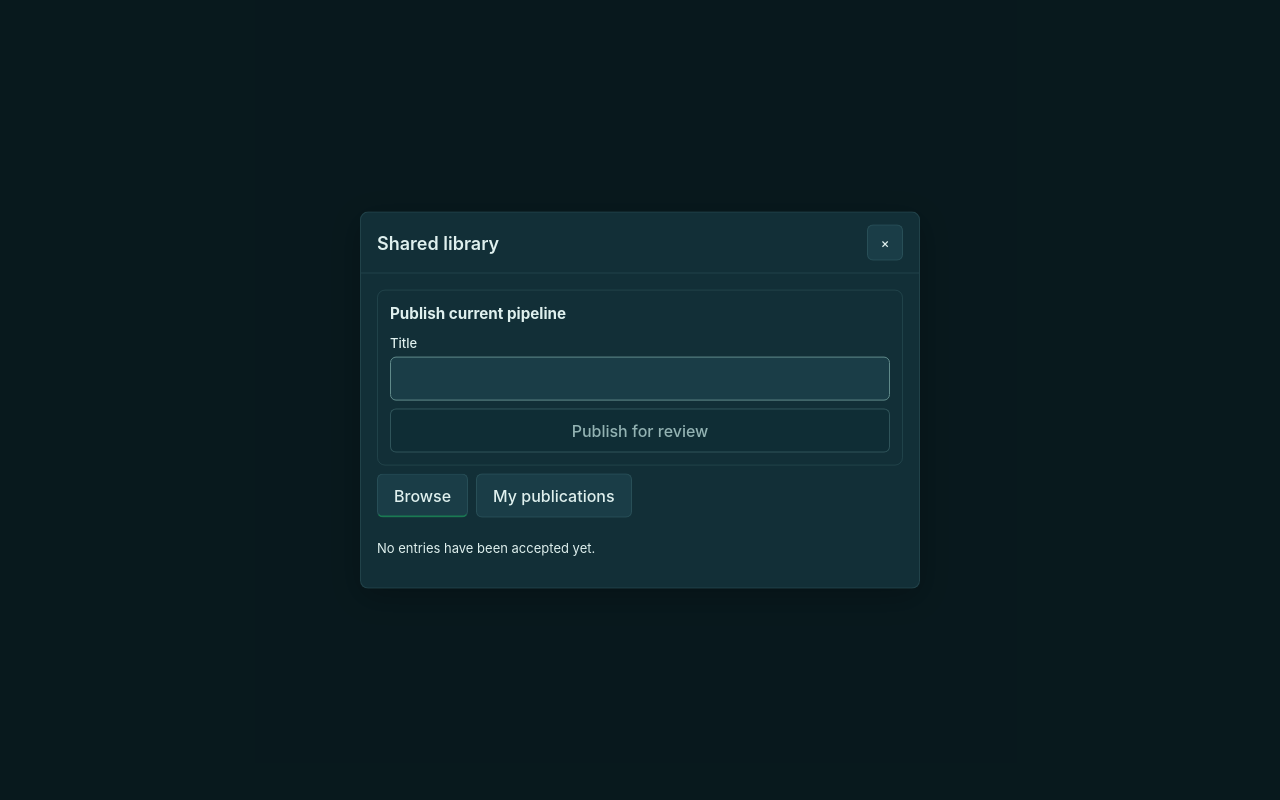
LibraryDialog › publishes the current state and opens My publications
Type "My pipeline" into the field labelled "Title" at (640, 379), box [390, 357, 890, 401]
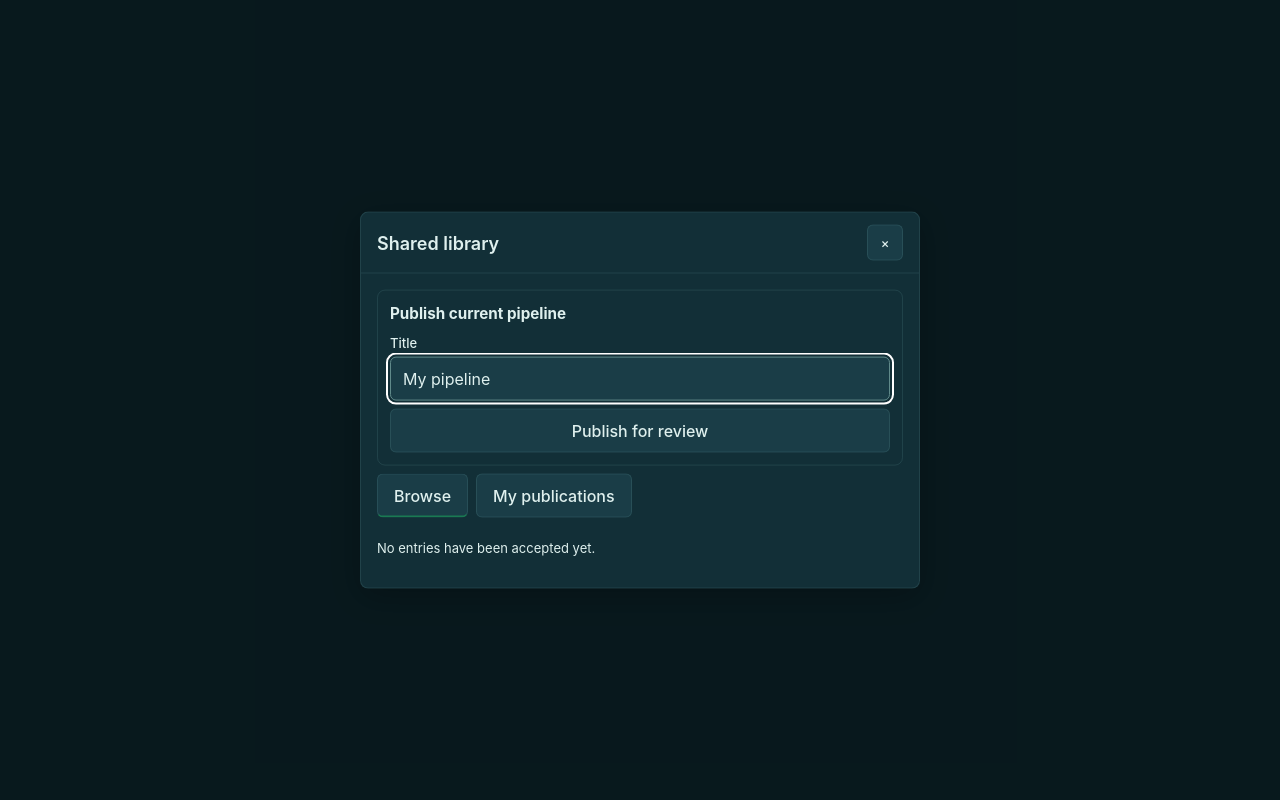
Click the button "Publish for review" at (640, 431), box [390, 409, 890, 453]
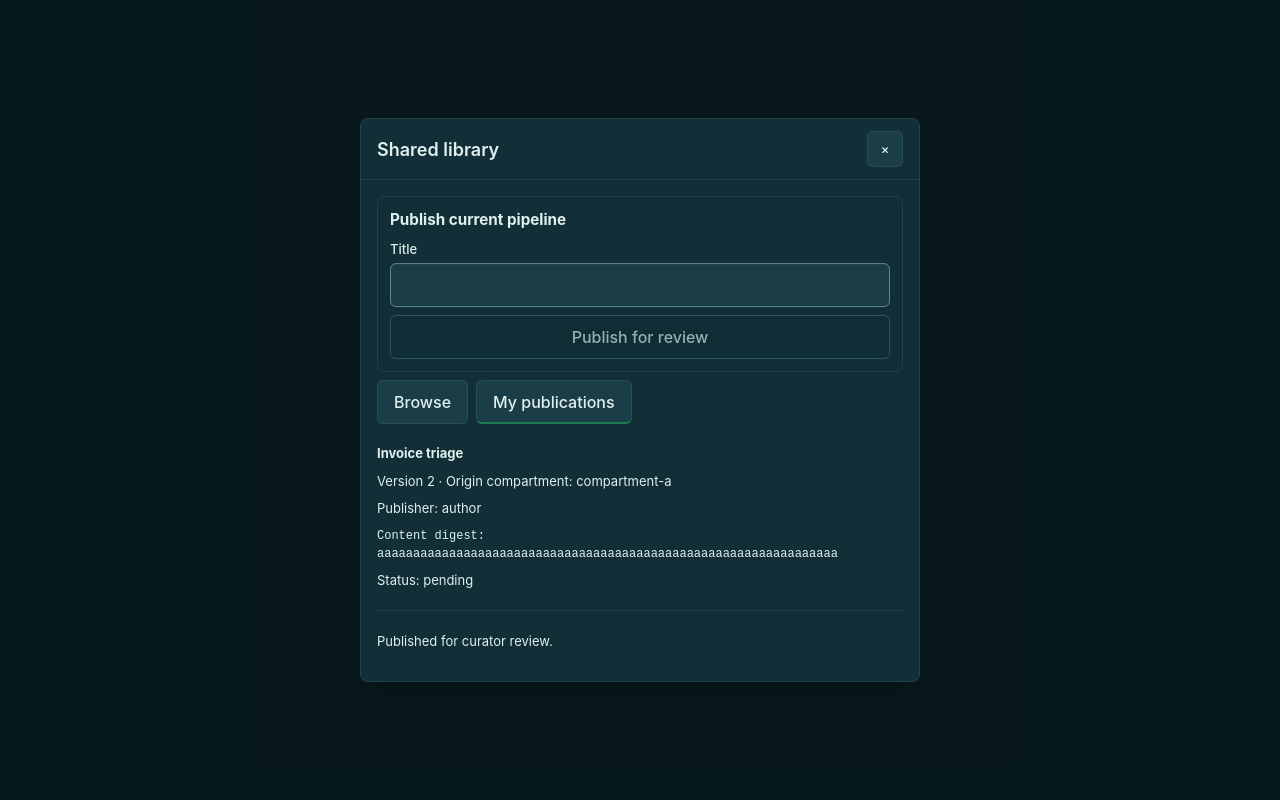
Expected: the text "Status: pending" is shown, [377, 572, 473, 588]
Expected: the message shows "Published for curator review", [377, 633, 553, 649]
